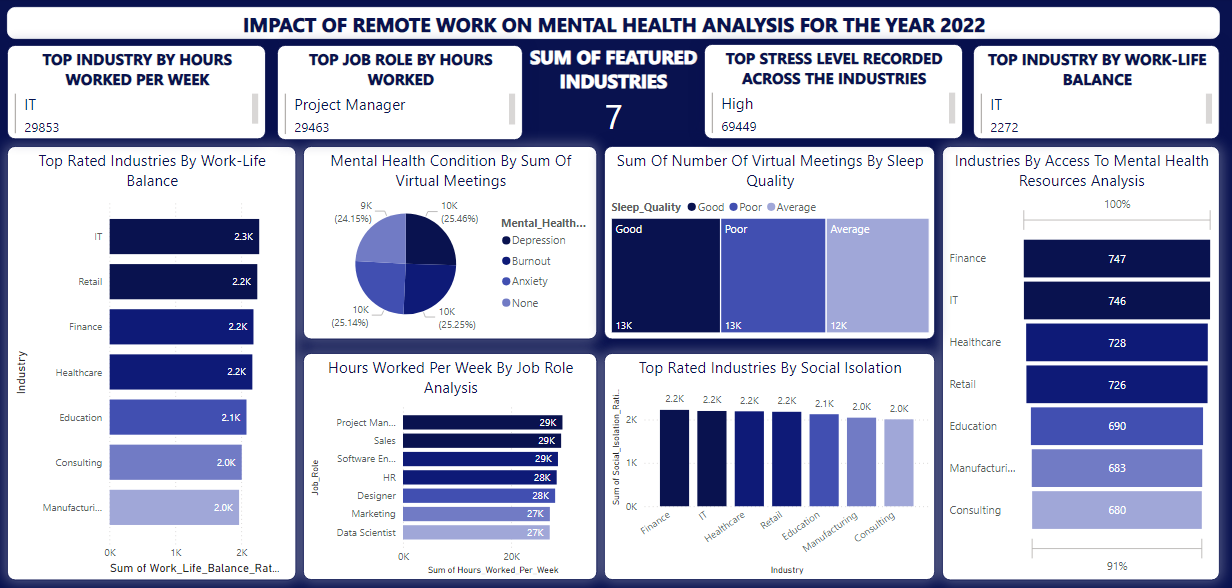

Layout of this report page (visuals, bound fields, positions):
{"tool":"powerbi","page":{"name":"Page 1","canvas":[1505,720],"ordinal":0},"visuals":[{"type":"textbox","title":"IMPACT OF REMOTE WORK ON MENTAL HEALTH ANALYSIS FOR THE YEAR 2022","box":[8.5,11,1480.3,39.1],"z":0},{"type":"barChart","title":"Top Rated Industries By Work-Life Balance","fields":{"Category":["Impact_of_Remote_Work_on_Mental_Health.Industry"],"Y":["Sum(Impact_of_Remote_Work_on_Mental_Health.Work_Life_Balance_Rating)"]},"box":[8.5,180.6,352.7,529.6],"z":1000},{"type":"pieChart","title":"Mental Health Condition By Sum Of Virtual Meetings","fields":{"Category":["Impact_of_Remote_Work_on_Mental_Health.Mental_Health_Condition"],"Y":["Sum(Impact_of_Remote_Work_on_Mental_Health.Number_of_Virtual_Meetings)"]},"box":[369.8,180.6,358.8,235.5],"z":2000},{"type":"columnChart","title":"Top Rated Industries By Social Isolation","fields":{"Y":["Sum(Impact_of_Remote_Work_on_Mental_Health.Social_Isolation_Rating)"],"Category":["Impact_of_Remote_Work_on_Mental_Health.Industry"]},"box":[737.1,433.2,403.9,277],"z":3000},{"type":"barChart","title":"Hours Worked Per Week By Job Role Analysis","fields":{"Category":["Impact_of_Remote_Work_on_Mental_Health.Job_Role"],"Y":["Sum(Impact_of_Remote_Work_on_Mental_Health.Hours_Worked_Per_Week)"]},"box":[369.8,433.2,358.8,277],"z":4000},{"type":"funnel","title":"Industries By Access To Mental Health Resources Analysis","fields":{"Y":["CountNonNull(Impact_of_Remote_Work_on_Mental_Health.Access_to_Mental_Health_Resources)"],"Category":["Impact_of_Remote_Work_on_Mental_Health.Industry"]},"box":[1149.6,180.6,339.3,529.6],"z":5000},{"type":"treemap","title":"Sum Of Number Of Virtual Meetings By Sleep Quality","fields":{"Group":["Impact_of_Remote_Work_on_Mental_Health.Sleep_Quality"],"Values":["Sum(Impact_of_Remote_Work_on_Mental_Health.Number_of_Virtual_Meetings)"]},"box":[737.1,180.6,403.9,235.5],"z":6000},{"type":"multiRowCard","title":"TOP INDUSTRY BY WORK-LIFE BALANCE","fields":{"Values":["Sum(Impact_of_Remote_Work_on_Mental_Health.Work_Life_Balance_Rating)","Impact_of_Remote_Work_on_Mental_Health.Industry"]},"box":[1187.4,57,301.3,115.4],"z":8000},{"type":"multiRowCard","title":"TOP INDUSTRY BY HOURS WORKED PER WEEK ","fields":{"Values":["Sum(Impact_of_Remote_Work_on_Mental_Health.Hours_Worked_Per_Week)","Impact_of_Remote_Work_on_Mental_Health.Industry"]},"box":[8.1,57,316.2,115.4],"z":8001},{"type":"card","title":"SUM OF FEATURED INDUSTRIES","fields":{"Values":["Count(Impact_of_Remote_Work_on_Mental_Health.Industry)"]},"box":[607.7,56.1,281.9,115.9],"z":8002},{"type":"multiRowCard","title":"TOP JOB ROLE BY HOURS WORKED","fields":{"Values":["Sum(Impact_of_Remote_Work_on_Mental_Health.Hours_Worked_Per_Week)","Impact_of_Remote_Work_on_Mental_Health.Job_Role"]},"box":[338,57.4,300.2,115.9],"z":8003},{"type":"multiRowCard","title":"TOP STRESS LEVEL RECORDED ACROSS THE INDUSTRIES","fields":{"Values":["Sum(Impact_of_Remote_Work_on_Mental_Health.Age)","Impact_of_Remote_Work_on_Mental_Health.Stress_Level"]},"box":[859.6,56.3,315.7,115.6],"z":8004}]}

Visuals, with their boxes in screenshot pixels (x1, y1, x2, y2), scaled from the page's 1505x720 canvas onto the 1232x588 screenshot:
"IMPACT OF REMOTE WORK ON MENTAL HEALTH ANALYSIS FOR THE YEAR 2022" textbox: [x1=7, y1=9, x2=1219, y2=41]
"Top Rated Industries By Work-Life Balance" barChart: [x1=7, y1=147, x2=296, y2=580]
"Mental Health Condition By Sum Of Virtual Meetings" pieChart: [x1=303, y1=147, x2=596, y2=340]
"Top Rated Industries By Social Isolation" columnChart: [x1=603, y1=354, x2=934, y2=580]
"Hours Worked Per Week By Job Role Analysis" barChart: [x1=303, y1=354, x2=596, y2=580]
"Industries By Access To Mental Health Resources Analysis" funnel: [x1=941, y1=147, x2=1219, y2=580]
"Sum Of Number Of Virtual Meetings By Sleep Quality" treemap: [x1=603, y1=147, x2=934, y2=340]
"TOP INDUSTRY BY WORK-LIFE BALANCE" multiRowCard: [x1=972, y1=47, x2=1219, y2=141]
"TOP INDUSTRY BY HOURS WORKED PER WEEK " multiRowCard: [x1=7, y1=47, x2=265, y2=141]
"SUM OF FEATURED INDUSTRIES" card: [x1=497, y1=46, x2=728, y2=140]
"TOP JOB ROLE BY HOURS WORKED" multiRowCard: [x1=277, y1=47, x2=522, y2=142]
"TOP STRESS LEVEL RECORDED ACROSS THE INDUSTRIES" multiRowCard: [x1=704, y1=46, x2=962, y2=140]
